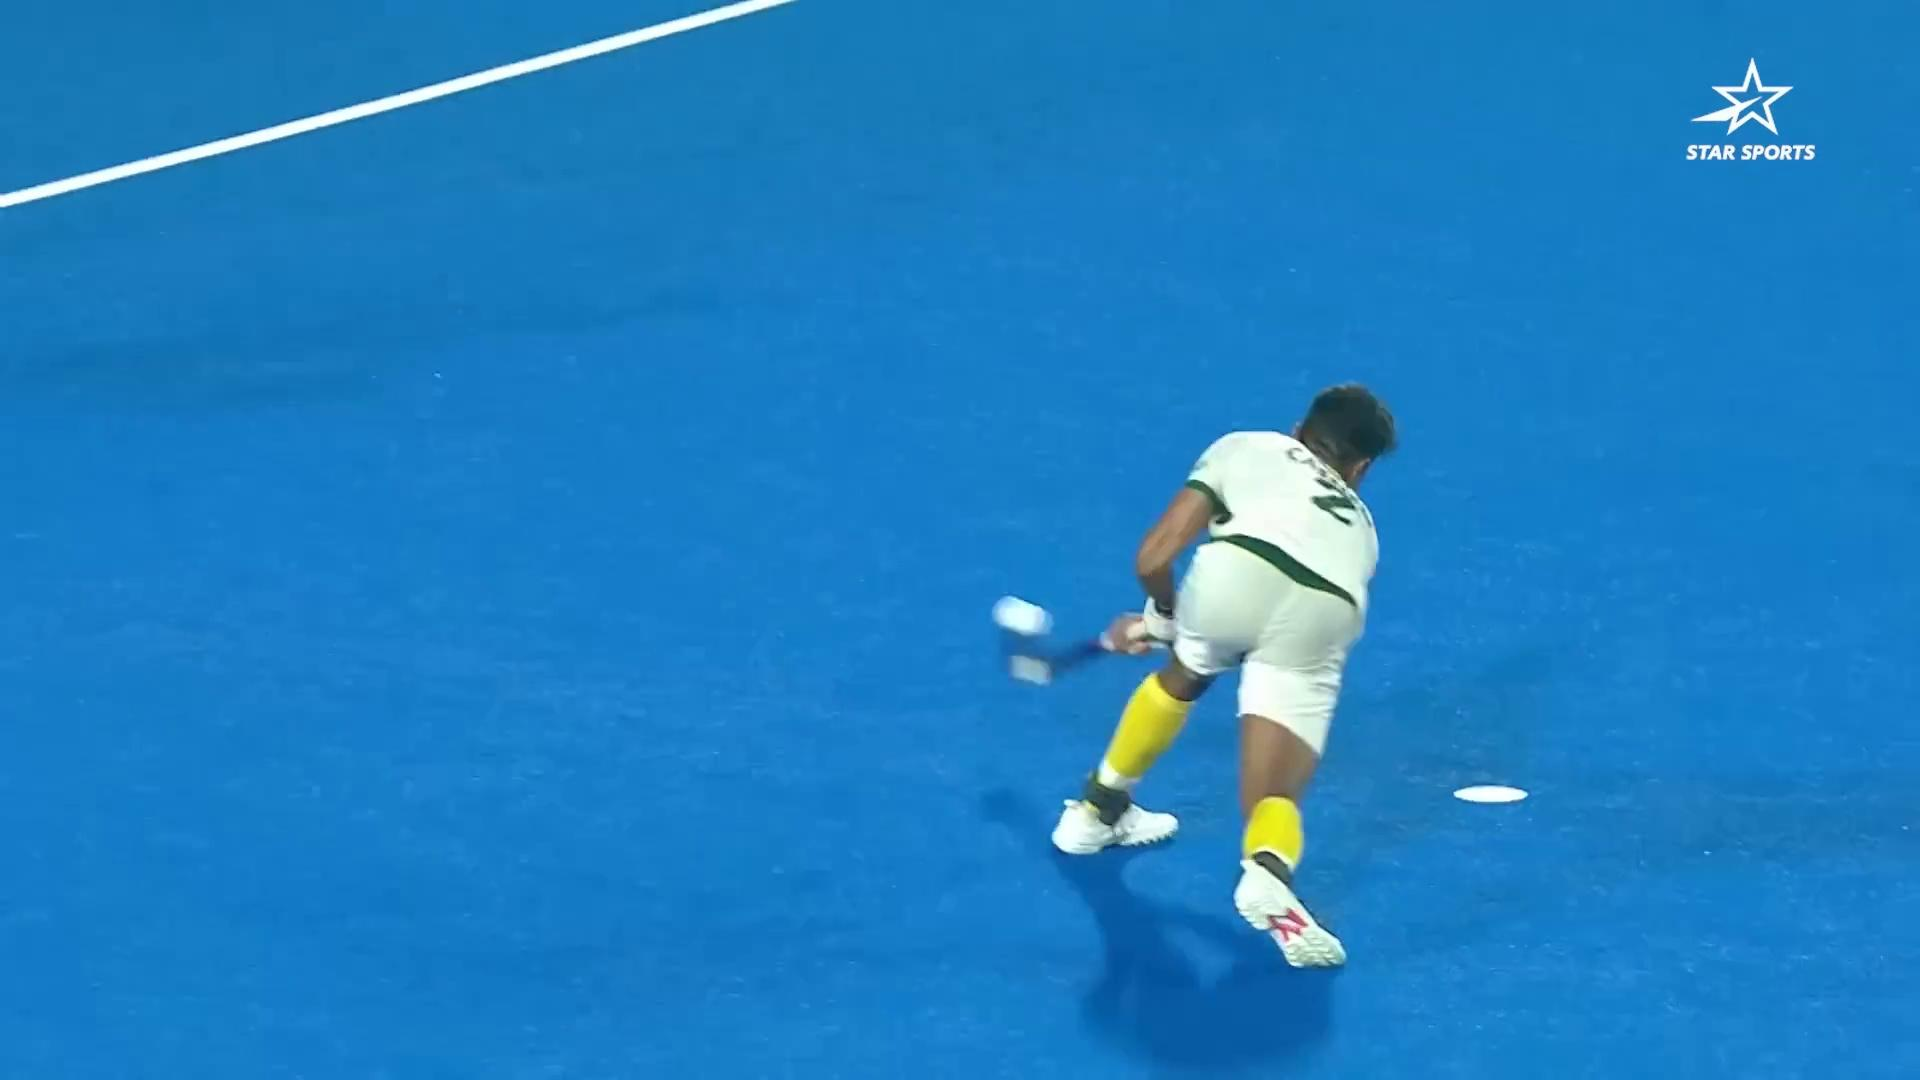ball: (990, 576, 1067, 641)
